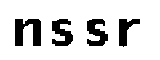n: (9, 16, 46, 50)
r: (115, 15, 143, 52)
s: (81, 18, 110, 49), (49, 17, 74, 49)
